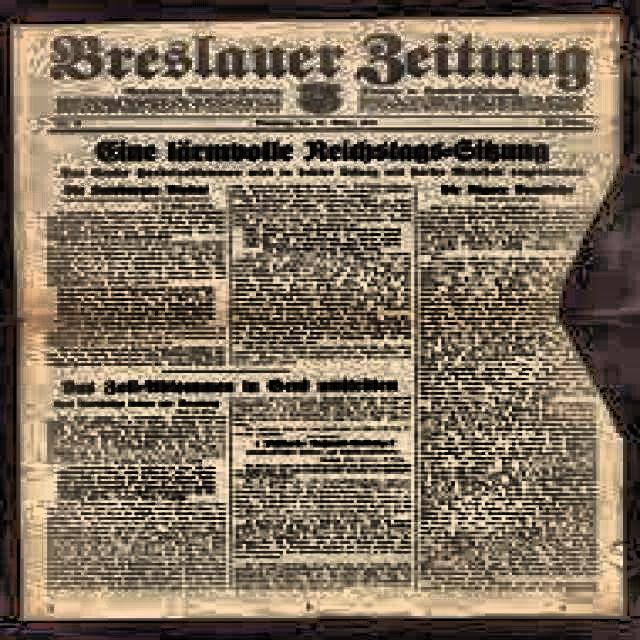Paper: (10, 15, 620, 619)
